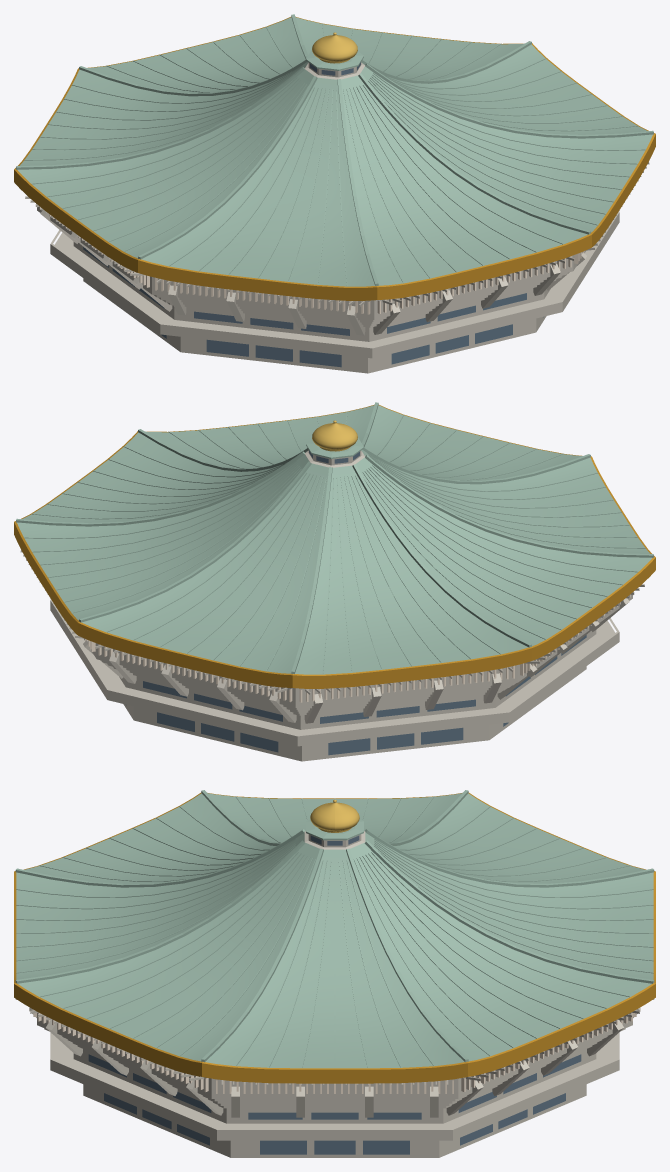
File: tokyo-nippon-budokan.detail.glb
3 renders of one model, top to bottom at view 1: azimuth 30°, elevation 25°; view 2: azimuth 150°, elevation 25°; view 3: azimuth 270°, elevation 25°, orthographic. The views are drawn at different scales.
Visible parts, largest first — view 1: Nippon Budokan; view 2: Nippon Budokan; view 3: Nippon Budokan.
Part boxes in pixels (x1,y1,x2,y2): Nippon Budokan: (14, 14, 655, 373); Nippon Budokan: (14, 402, 655, 761); Nippon Budokan: (14, 790, 655, 1157).
Bounding box in the file's own units: 97 × 42 × 97.
